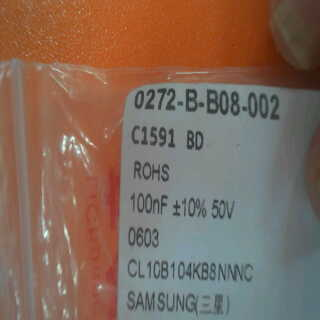100nF: (125, 186, 171, 218)
